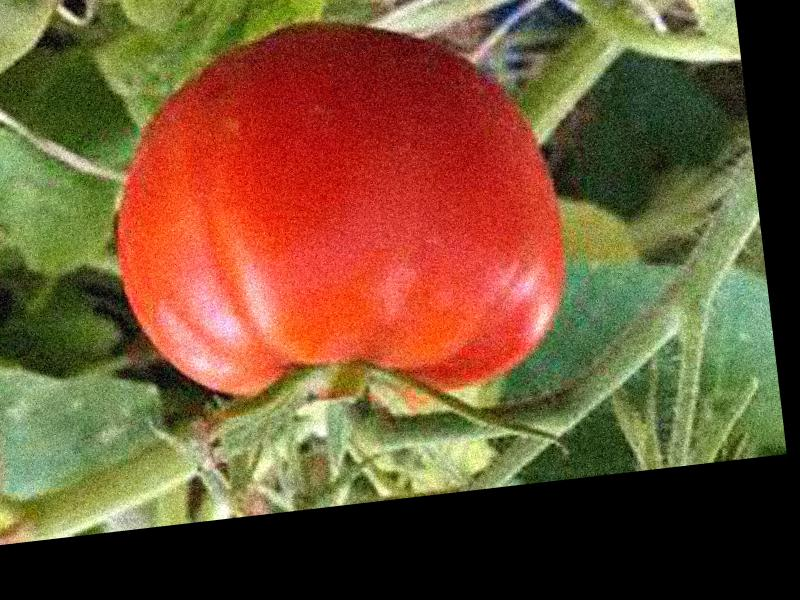Tomato: (94, 0, 582, 424)
